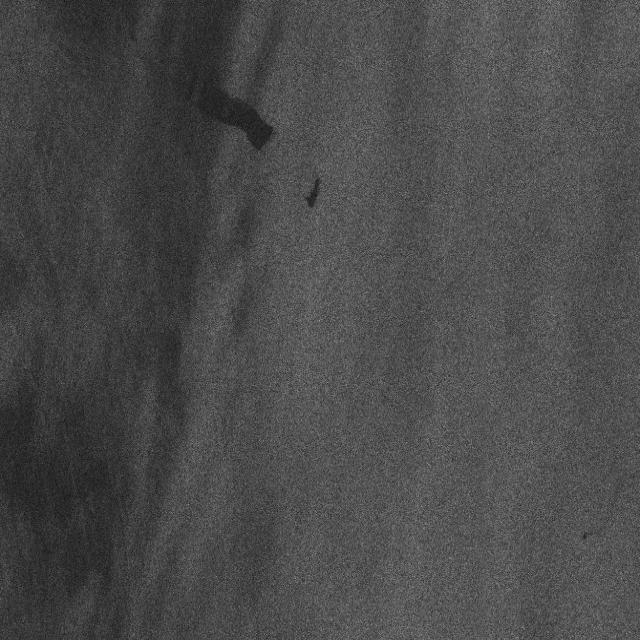look-alike: (72, 3, 224, 287), (2, 350, 130, 617)
oil-spill: (195, 72, 276, 163), (298, 163, 325, 216)
